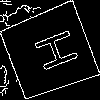H: (24, 27, 80, 78)
